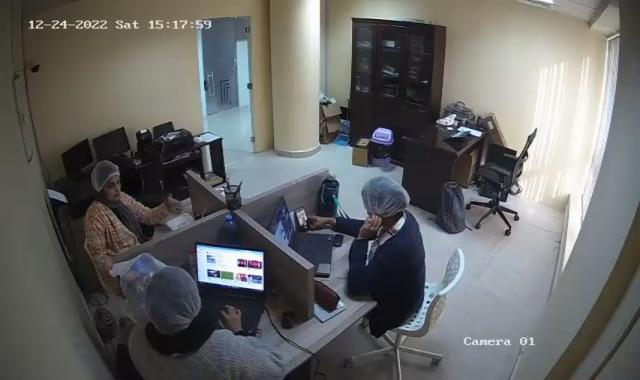hairnet: (144, 268, 206, 336), (360, 176, 411, 220), (89, 158, 124, 205)
